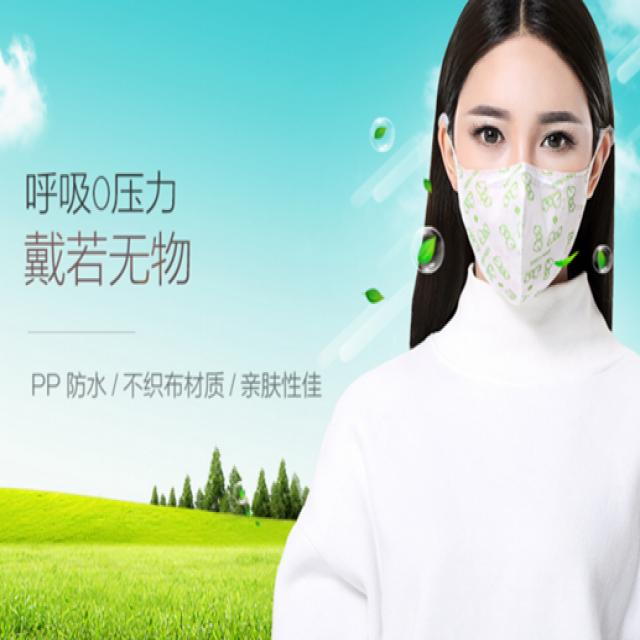mask: (456, 39, 596, 306)
